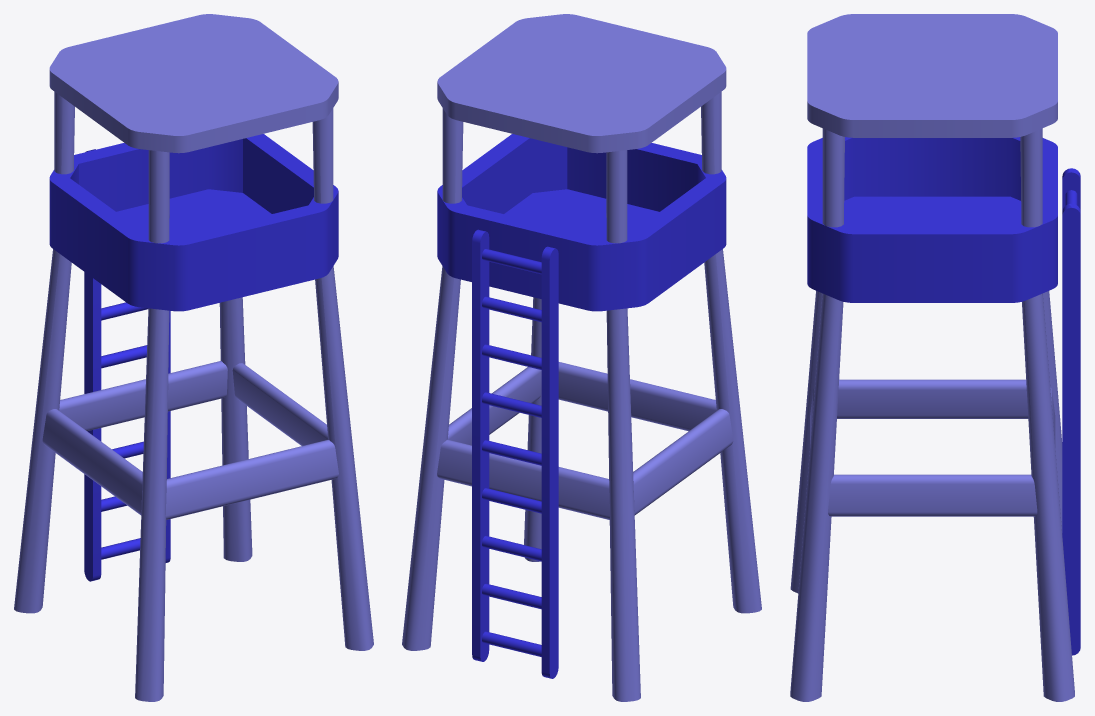
File: Tower.fbx
3 renders of one model, left to right at view 1: azimuth 30°, elevation 25°; view 2: azimuth 150°, elevation 25°; view 3: azimuth 270°, elevation 25°, orthographic. The views are drawn at different scales.
Parts seen in each view (by area): view 1: Tower; view 2: Tower; view 3: Tower.
Boxes of the visible parts, left/top/right/bottom form: Tower: left=14, top=14, right=373, bottom=701; Tower: left=402, top=14, right=761, bottom=701; Tower: left=790, top=14, right=1080, bottom=701.
Size of the model in its own units: 325 by 725 by 332.
